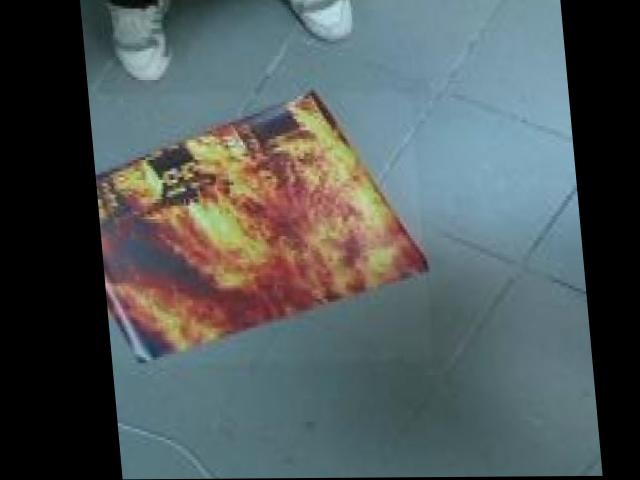fire-poster: (86, 83, 432, 368)
